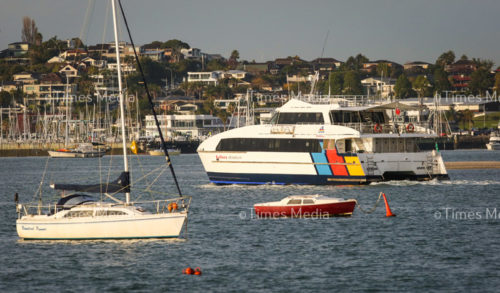ferry: (196, 97, 451, 185)
